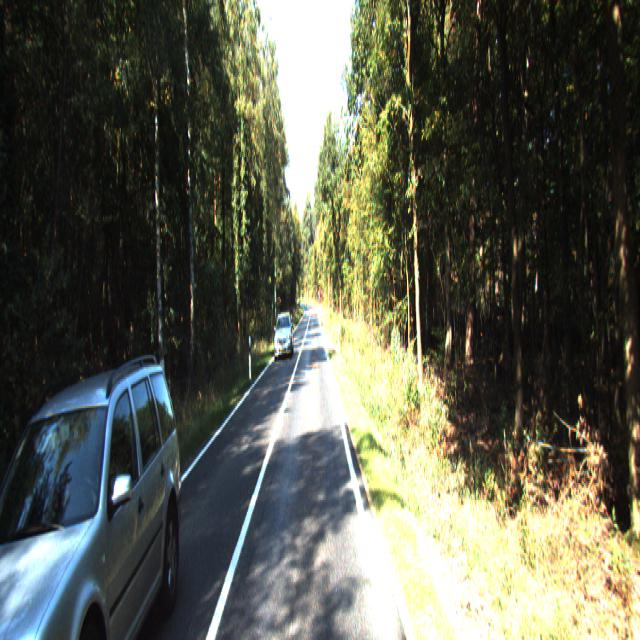Car: (0, 343, 197, 638), (272, 311, 294, 361)
